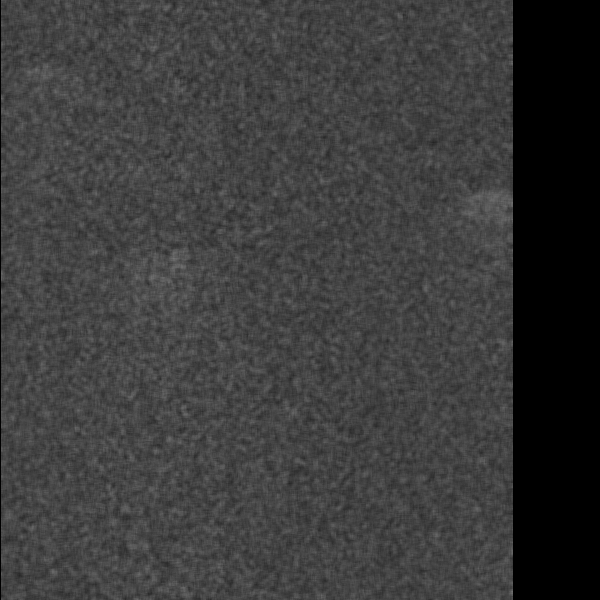spark: (474, 181, 509, 223), (158, 246, 181, 298)
